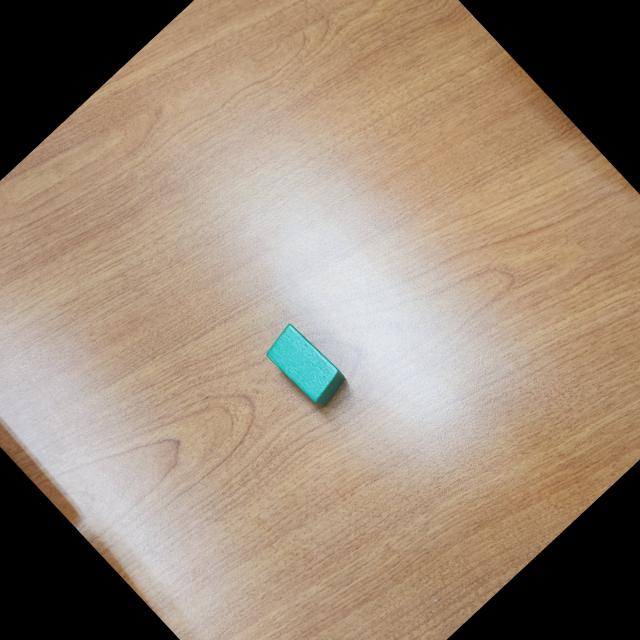green: (260, 319, 352, 413)
